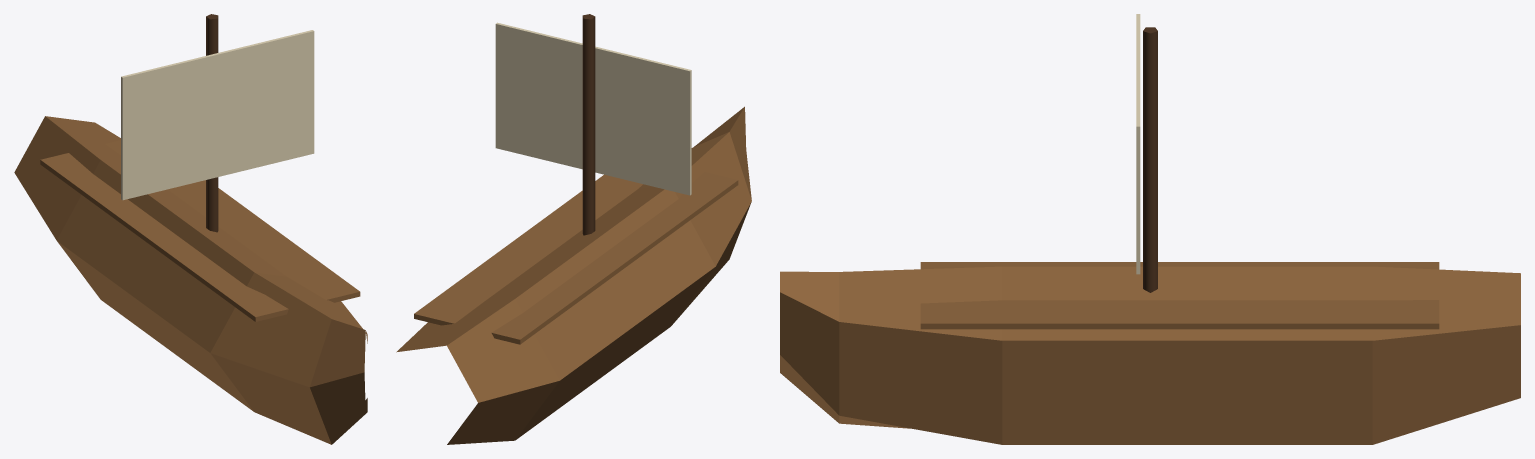
The model's file is veh_naval_merchant_a01_lod1.glb.
The picture shows the model from 3 angles, left to right: view 1: azimuth 30°, elevation 25°; view 2: azimuth 150°, elevation 25°; view 3: azimuth 270°, elevation 25°; orthographic projection. The views are drawn at different scales.
Parts seen in each view (by area): view 1: body, sail_0; view 2: body, sail_0; view 3: body, sail_0.
Part boxes in pixels (<box>): body: <box>14,14,367,444</box>; sail_0: <box>121,30,314,200</box>; body: <box>396,14,751,444</box>; sail_0: <box>495,22,691,195</box>; body: <box>780,27,1520,444</box>; sail_0: <box>1136,14,1140,274</box>.
Size of the model in its own units: 3.31 by 5.71 by 9.2.
